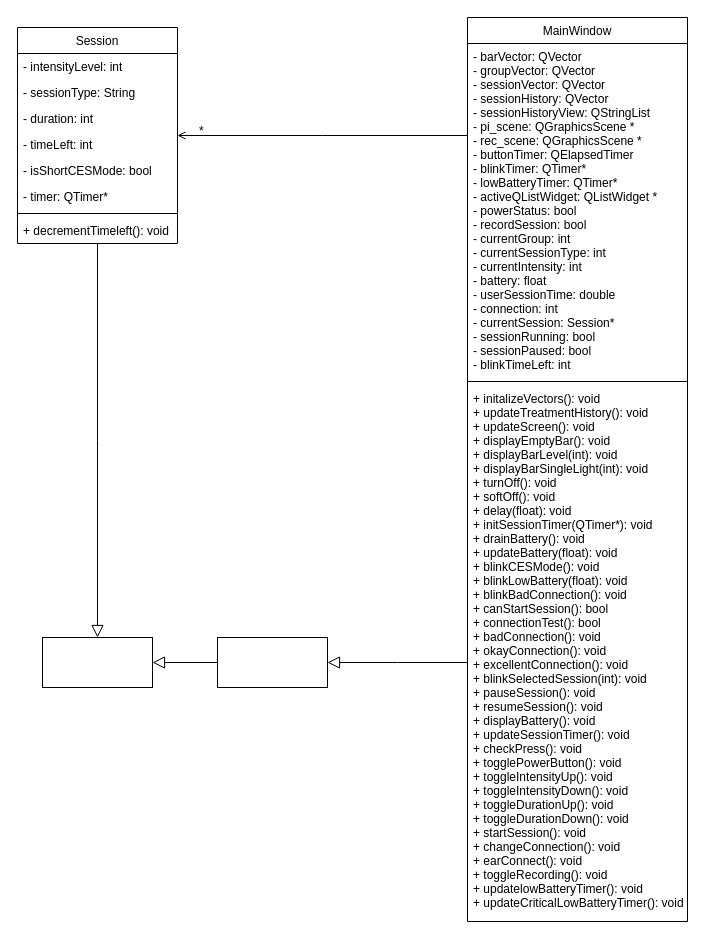
Some shapes in this 705 by 942 pixel diagram are drawn without their labels. Here are the shapes that lost their labels. From the top down, the centre of each, then its label:
point (97, 662): QObject
point (272, 662): QMainWindow
